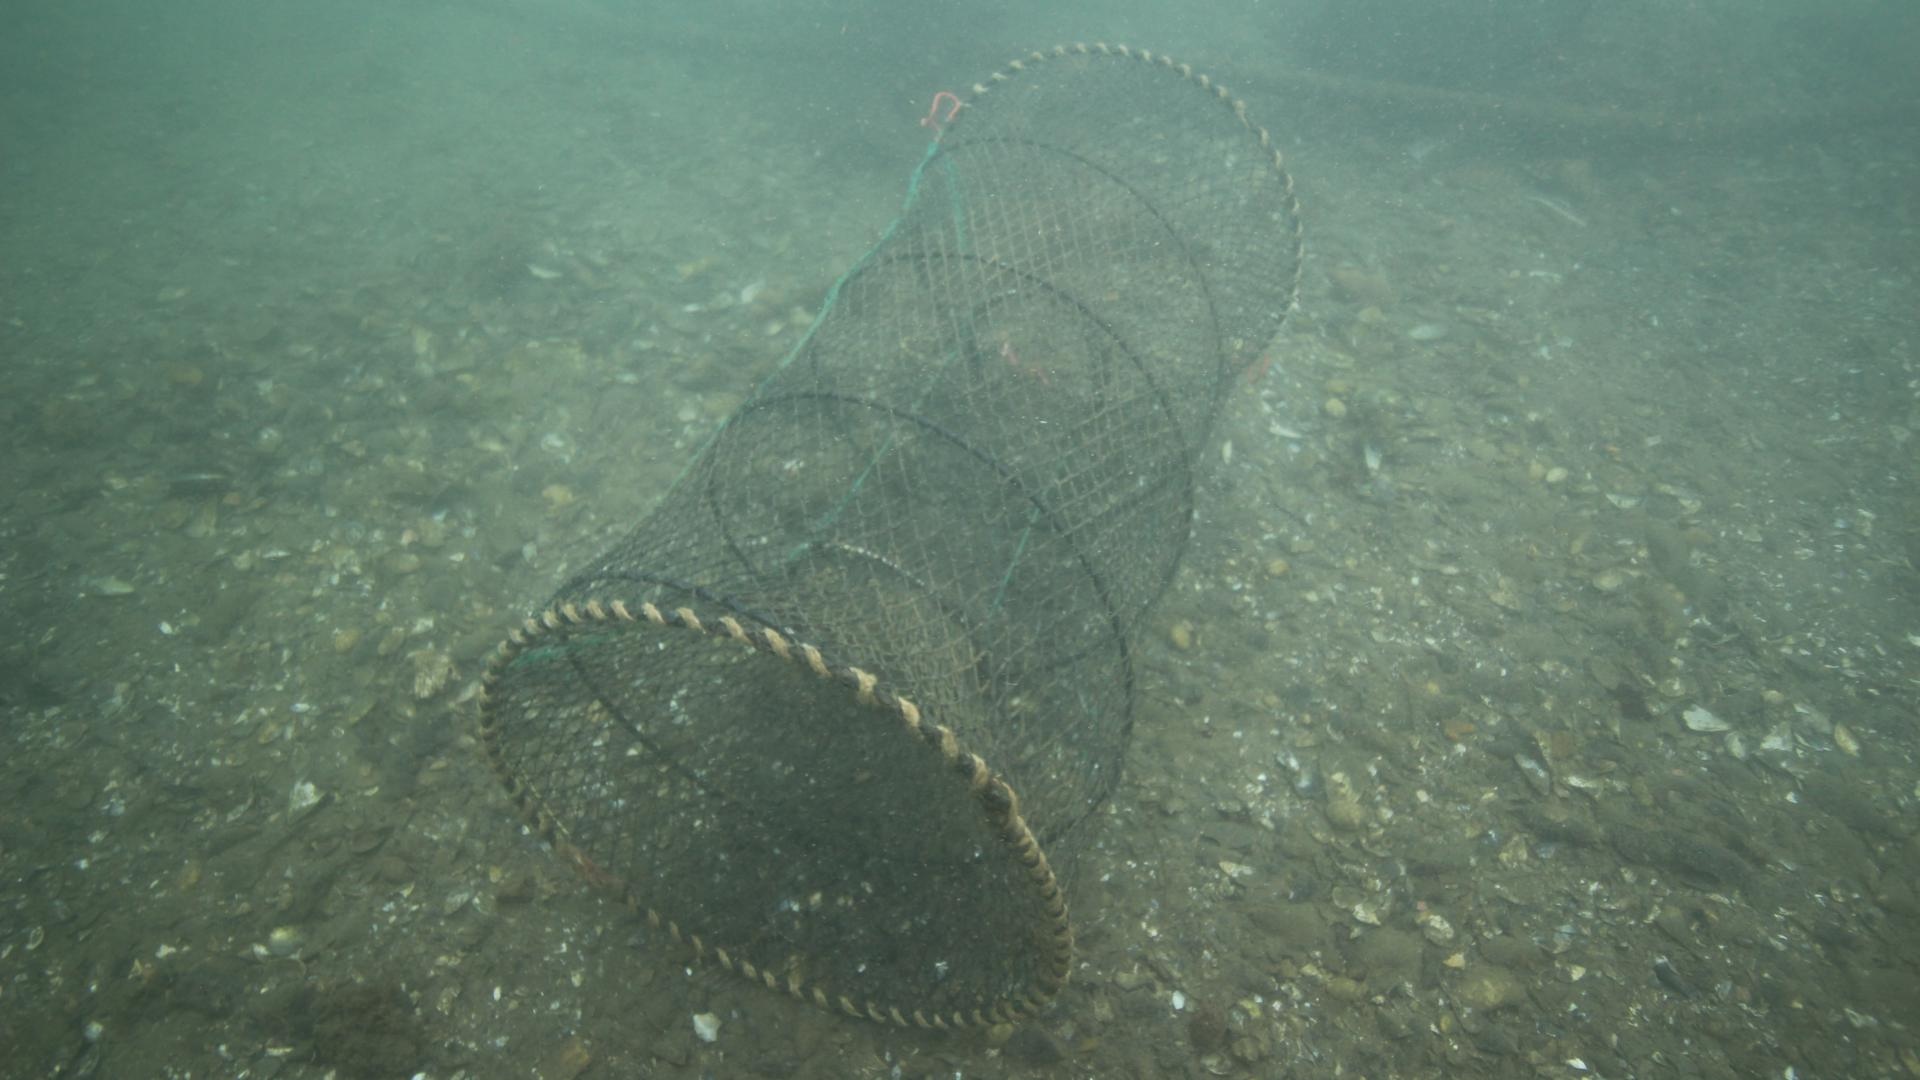spring fish trap: (477, 40, 1305, 1034)
